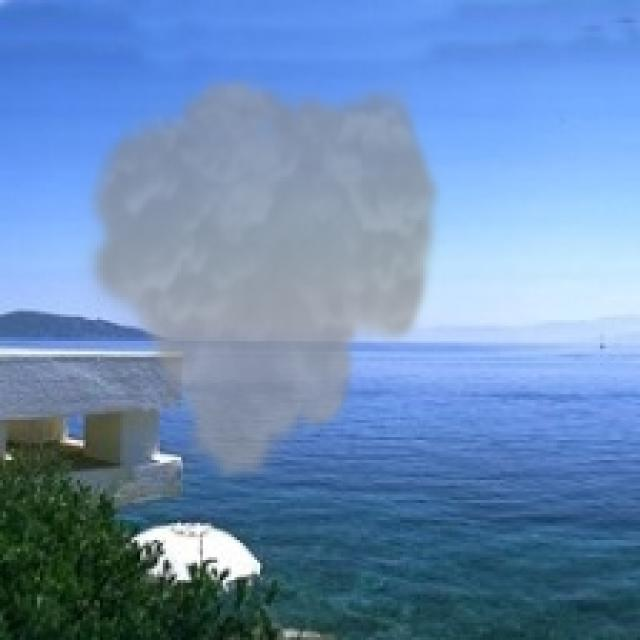Smoke: (77, 71, 446, 492)
